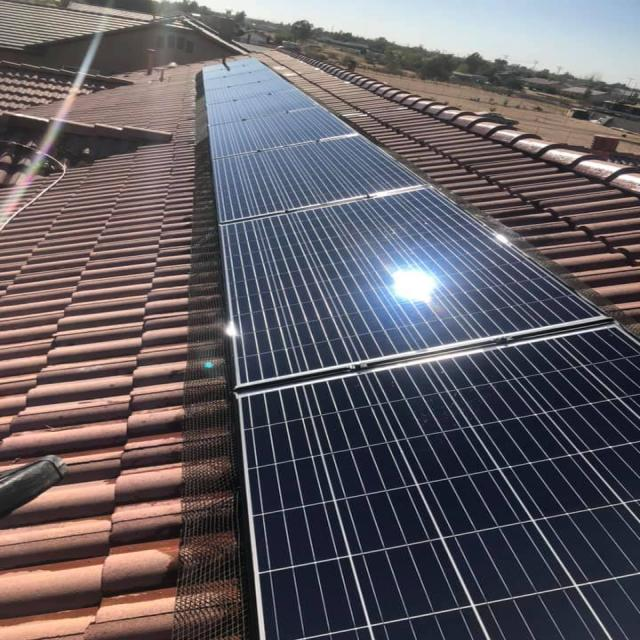clean-solar-panel: (203, 59, 638, 640)
